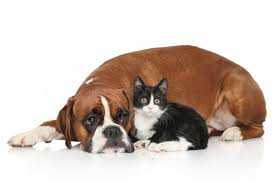cat: (131, 73, 170, 119)
dog: (57, 82, 139, 160)
